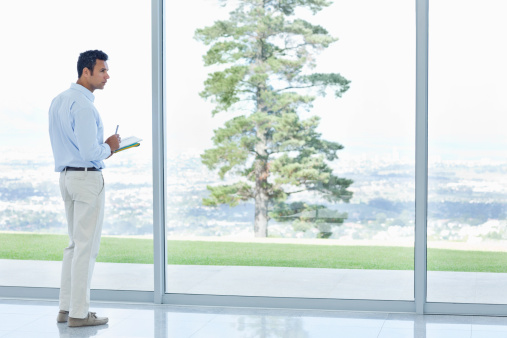em pe: (47, 27, 128, 325)
